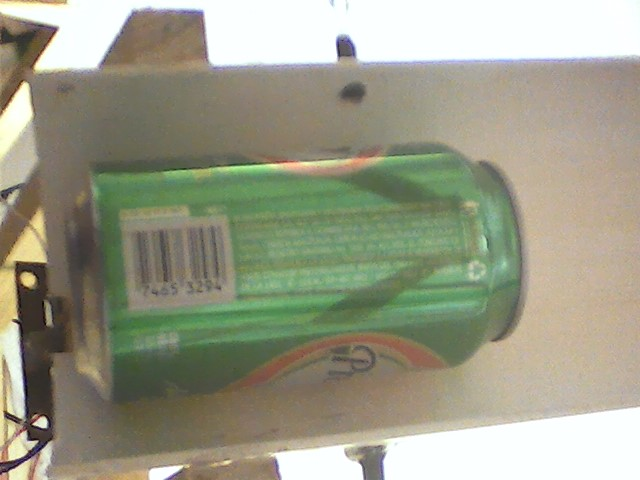lata: (54, 131, 540, 399)
